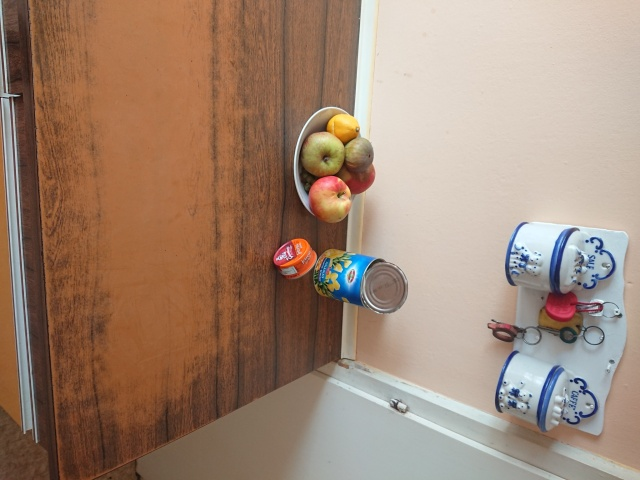Gavrilovic Pork Liver Pate 100g: (271, 236, 318, 281)
